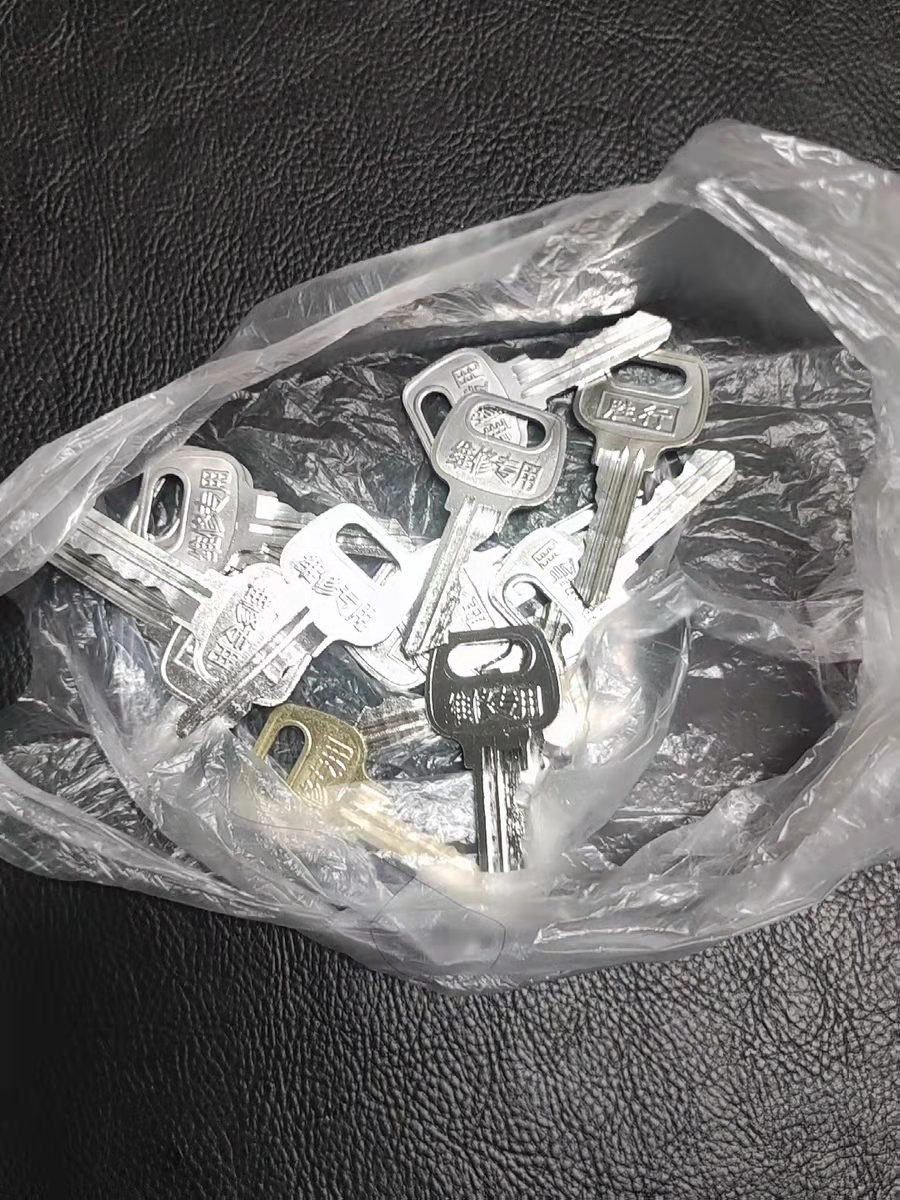key: (61, 510, 331, 717), (237, 697, 497, 897), (392, 310, 693, 454), (569, 328, 713, 609), (423, 627, 576, 885), (263, 503, 459, 699), (99, 438, 369, 578), (405, 404, 558, 631)
